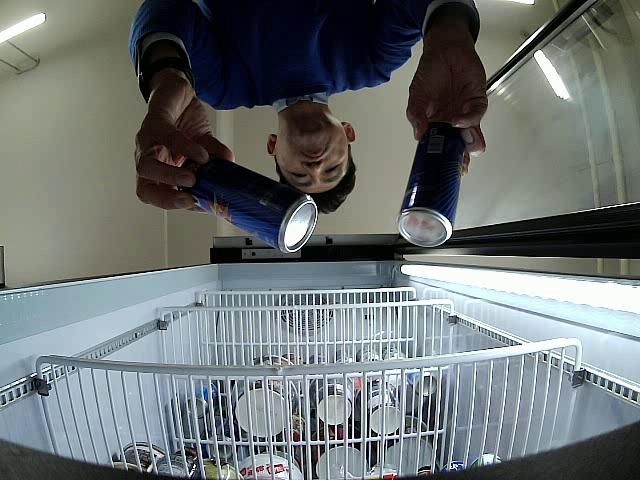00_hand: (135, 79, 235, 209), (406, 41, 489, 173)
16_hot6: (178, 153, 318, 253), (396, 121, 466, 248)
